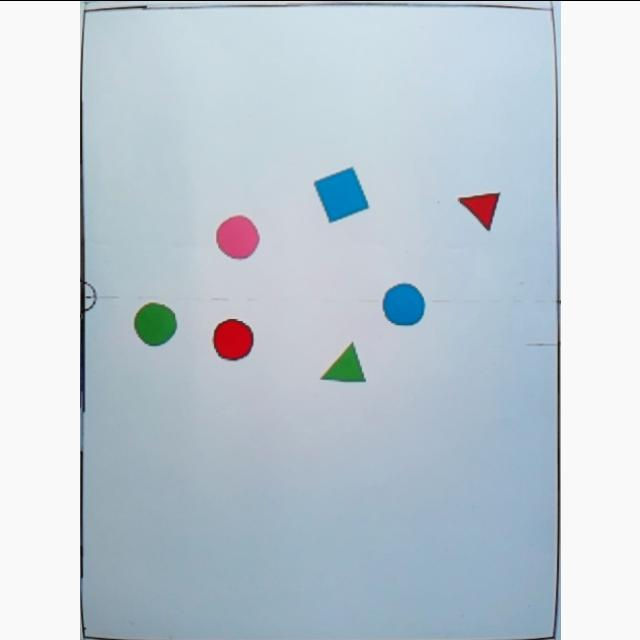blueCircle: (380, 282, 424, 326)
blueSquare: (312, 165, 368, 222)
greenCircle: (132, 300, 176, 346)
greenTriangle: (318, 342, 364, 382)
pinkCircle: (214, 214, 260, 260)
redCircle: (210, 318, 253, 359)
redTriangle: (456, 188, 502, 230)
